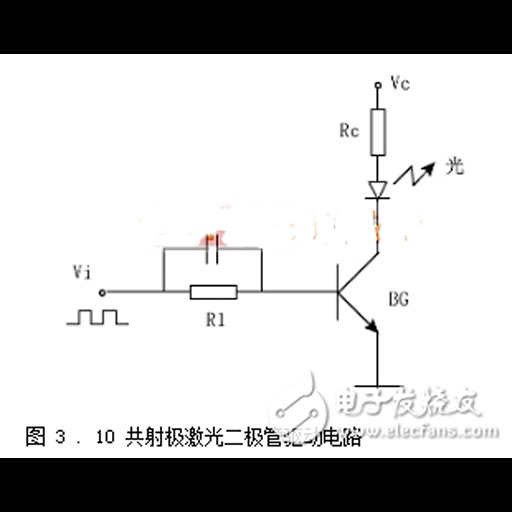capacitor: (195, 230, 228, 266)
firstresistance: (184, 279, 243, 303), (368, 105, 392, 160)
npn: (324, 243, 384, 345)
